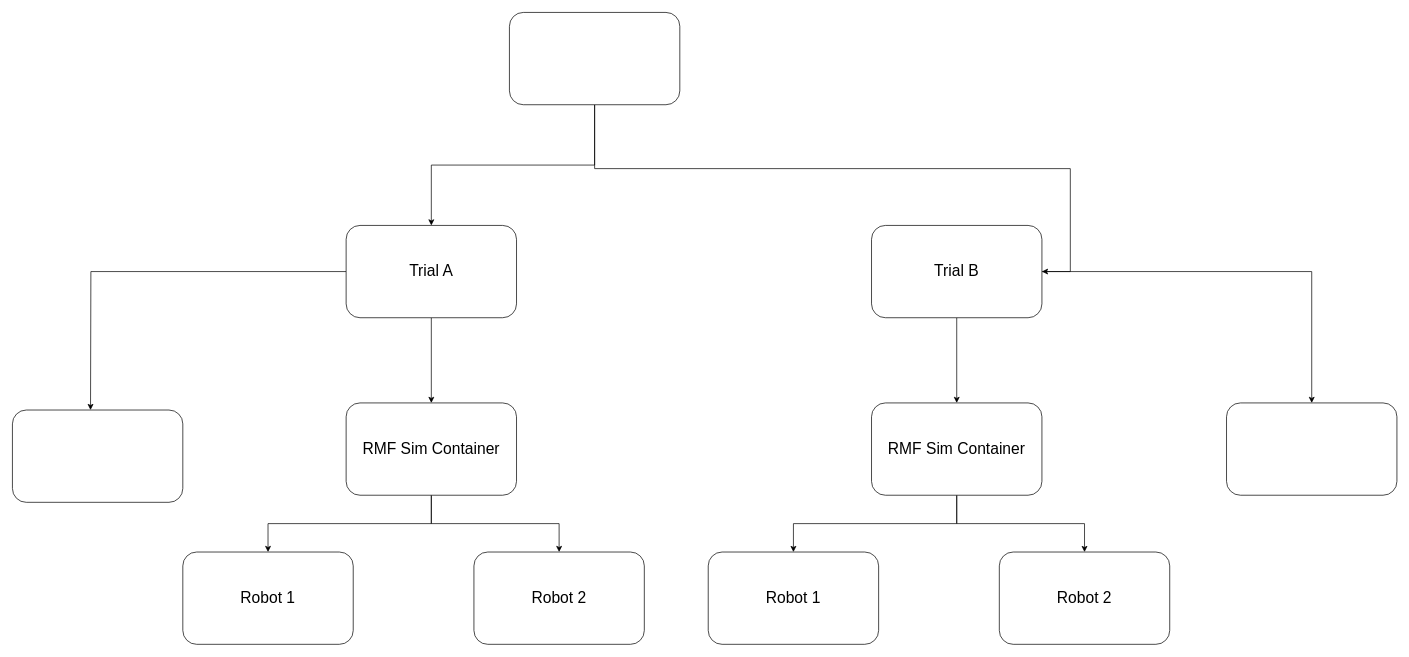
This 1409x657 diagram has some shape labels left out. The shapes that lost their labels are listed below. From the top down, each one's centre as x and y in pixels, then its label:
At (594,58): "Docker Swarm".
At (97,455): "Trial A Network".
At (1311,448): "Trial B Network".
